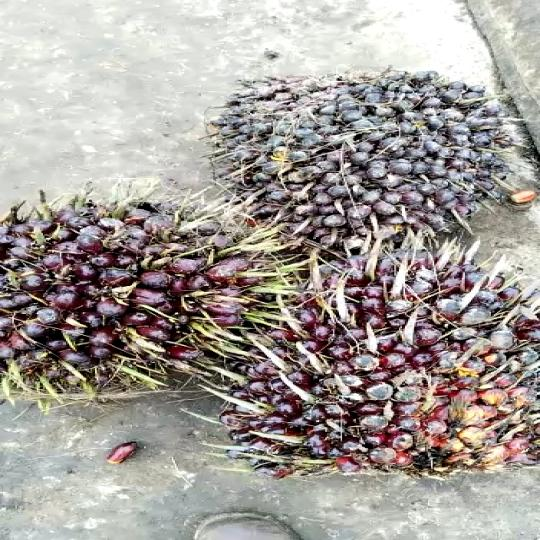kurang masak: (215, 213, 540, 468), (0, 169, 271, 412), (192, 65, 498, 205)
